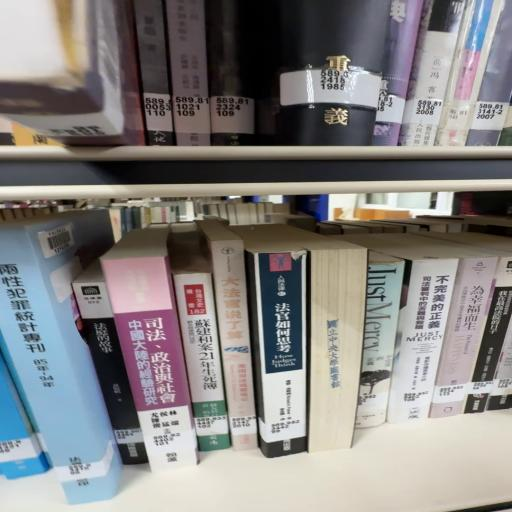backward: (308, 245, 368, 456)
book: (0, 206, 122, 500), (99, 234, 195, 471), (74, 260, 149, 468), (172, 222, 235, 459), (253, 251, 314, 462), (390, 257, 463, 425), (204, 224, 256, 458), (165, 0, 211, 145), (134, 0, 178, 145)
